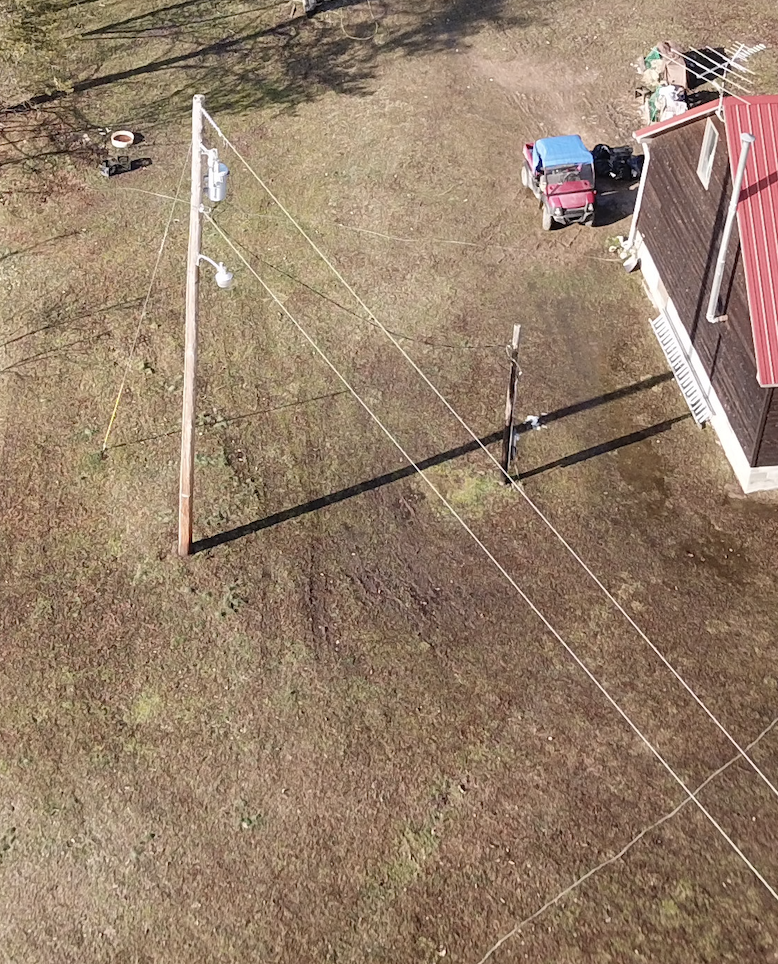pole: (143, 77, 239, 562), (475, 319, 553, 497)
